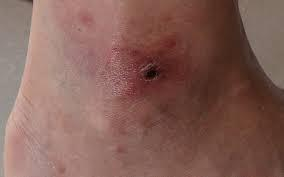Tick: (94, 20, 190, 101)
